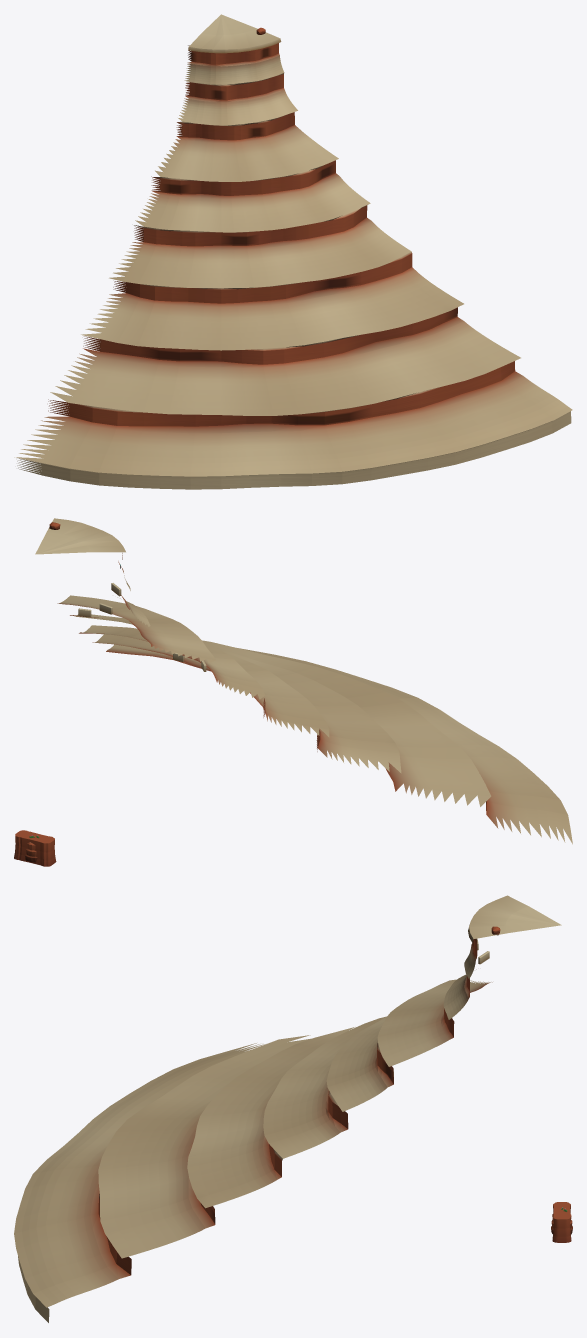
Rendered from canyon-s3-BUCL_e2-.glb.
3 renders of one model, top to bottom at view 1: azimuth 30°, elevation 25°; view 2: azimuth 150°, elevation 25°; view 3: azimuth 270°, elevation 25°, orthographic. The views are drawn at different scales.
Parts seen in each view (by area): view 1: sc_landmark_3; view 2: sc_landmark_3, sc_cliffbase; view 3: sc_landmark_3, sc_cliffbase.
Part boxes in pixels (x1,y1,x2,y2): sc_landmark_3: (14, 14, 572, 489); sc_landmark_3: (35, 518, 572, 844); sc_cliffbase: (14, 830, 56, 866); sc_landmark_3: (14, 895, 561, 1322); sc_cliffbase: (552, 1202, 571, 1242).
Bounding box in the file's own units: 494 × 286 × 440.
